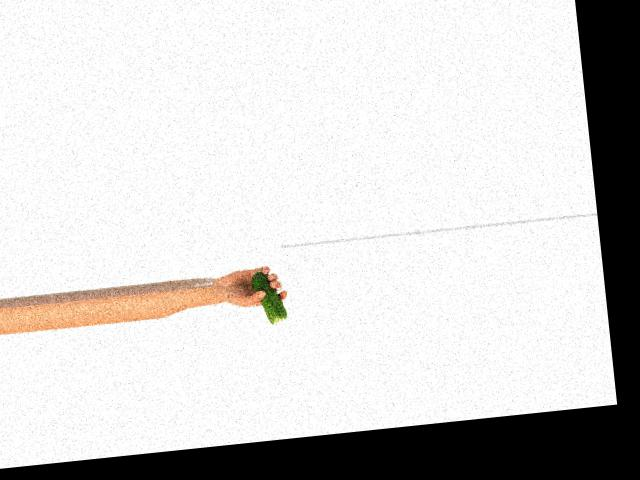cucumber: (250, 268, 287, 325)
